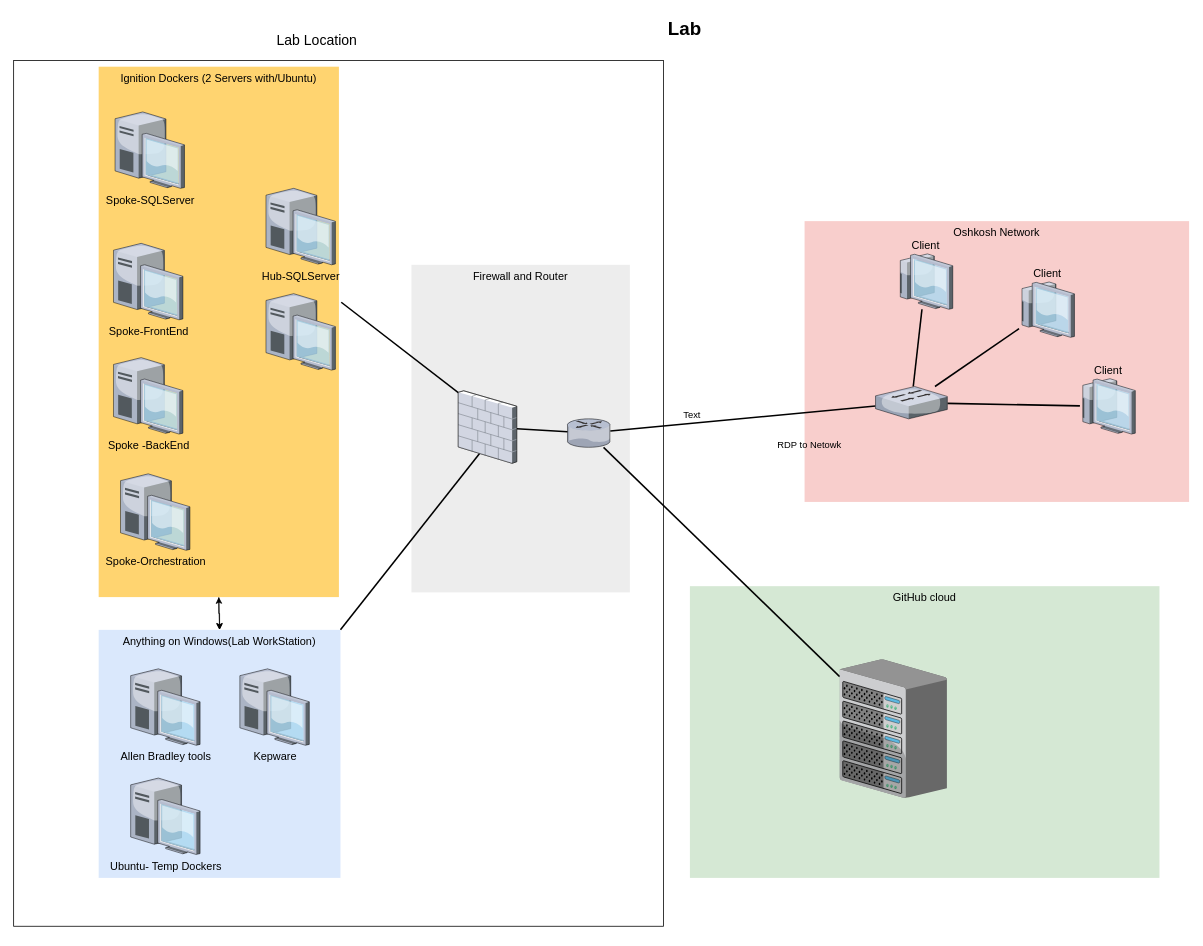
Some shapes in this 1203 by 946 pixel diagram are drawn without their labels. The centre of each missing label's shape, as x and y in pixels:
Hub: the point at 300,331
Router: the point at 588,432
